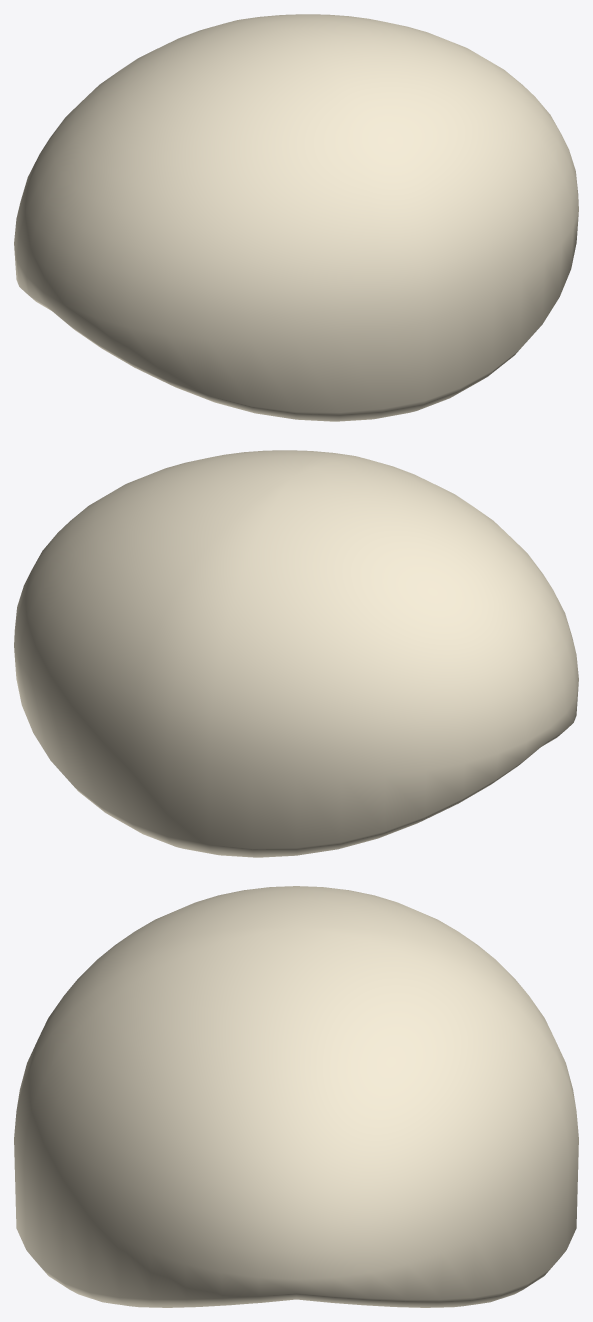
File: cowrie_a3.glb
3 views of the same model, one above another, from view 1: azimuth 30°, elevation 25°; view 2: azimuth 150°, elevation 25°; view 3: azimuth 270°, elevation 25° (orthographic). The views are drawn at different scales.
Parts seen in each view (by area): view 1: cowrie_a3; view 2: cowrie_a3; view 3: cowrie_a3.
Part boxes in pixels (x1,y1,x2,y2): cowrie_a3: (14,14,578,421); cowrie_a3: (14,450,578,857); cowrie_a3: (14,886,578,1307).
Bounding box in the file's own units: 0.02 × 0.0111 × 0.017.
